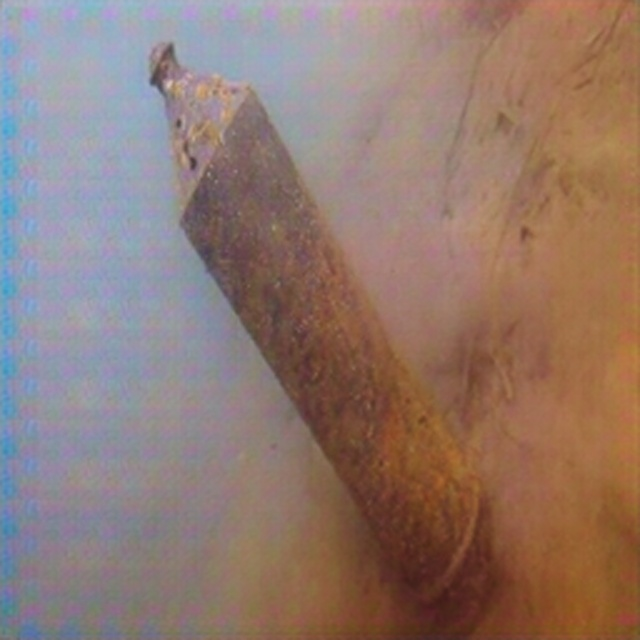mine: (146, 38, 481, 607)
